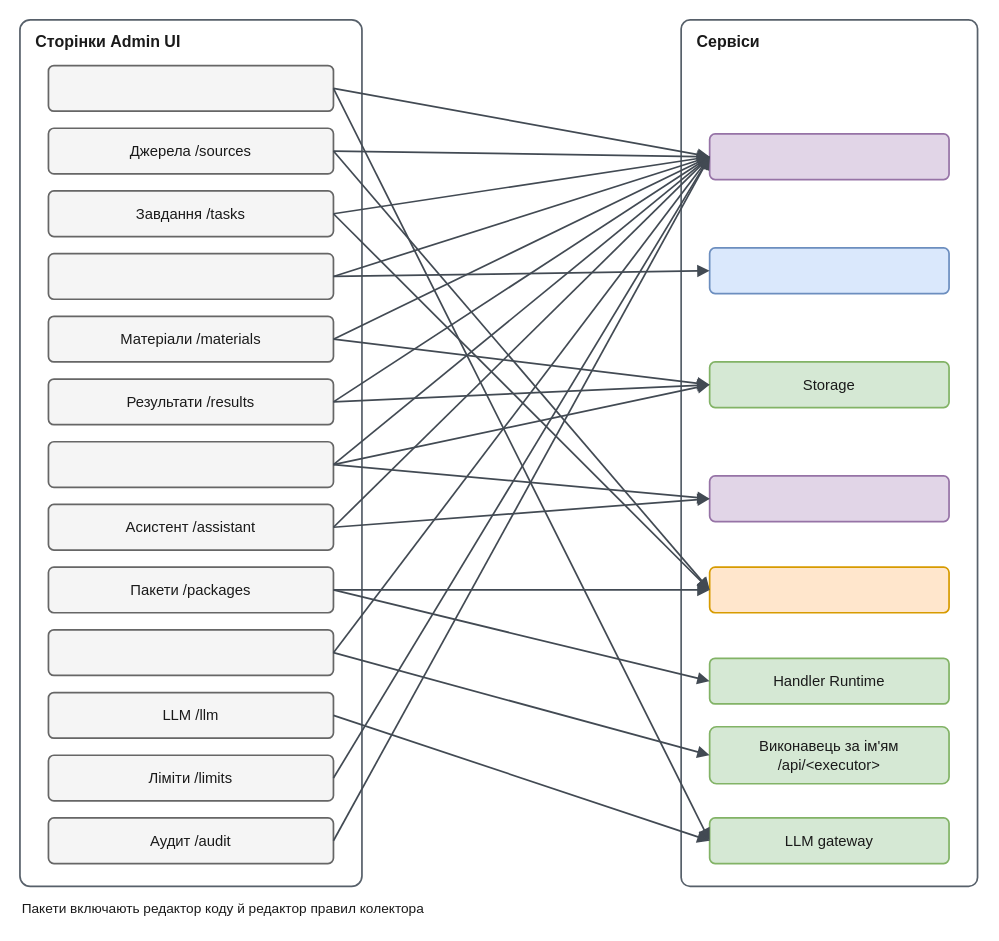
The diagram is 999 pixels wide and 941 high, and some of its shapes have lost their labels. The centre of each missing label's shape, as x and y in pixels:
Assistant: pixel 828 498
Orchestrator: pixel 828 156
Registry: pixel 828 589
Web Collector: pixel 828 270
Запуски /runs: pixel 190 276
Огляд /: pixel 190 87
Проблеми /problems: pixel 190 464
Підключення /connections: pixel 190 652
